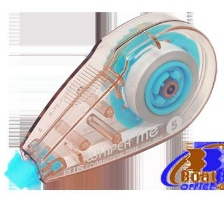correction_fluid: (2, 10, 219, 192)
